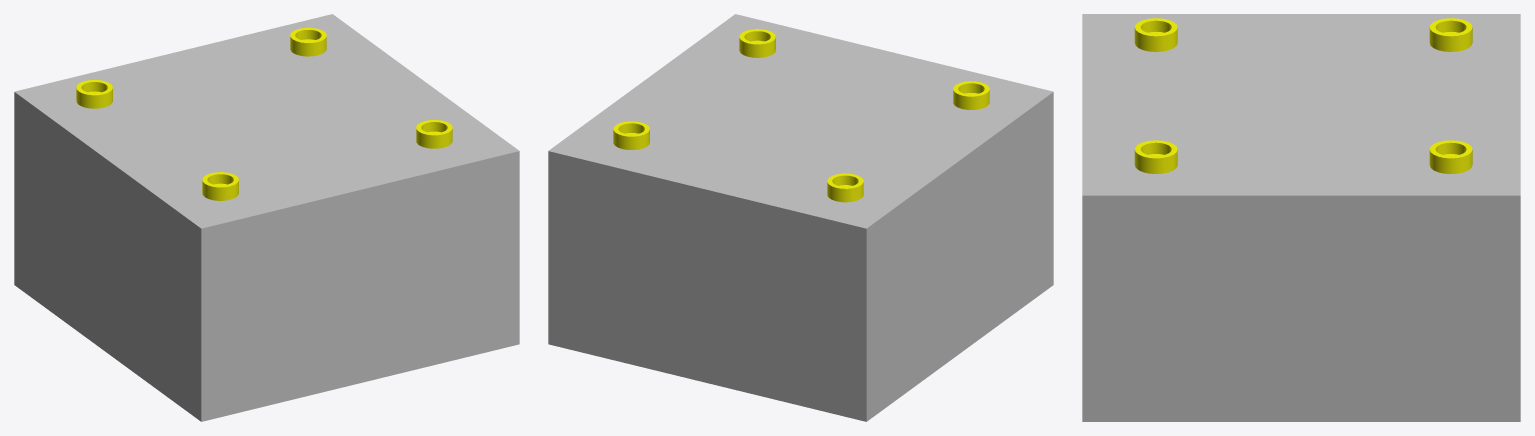
Rendered from sm_hana_bas_geothermal_heat_pump.glb.
3 views of the same model, side by side, from view 1: azimuth 30°, elevation 25°; view 2: azimuth 150°, elevation 25°; view 3: azimuth 270°, elevation 25° (orthographic). The views are drawn at different scales.
Parts seen in each view (by area): view 1: sm_color_common, sm_hana_bas_geothermal_heat_pump; view 2: sm_color_common, sm_hana_bas_geothermal_heat_pump; view 3: sm_color_common, sm_hana_bas_geothermal_heat_pump.
Part boxes in pixels (x1=…): sm_color_common: x1=14, y1=14, x2=519, y2=421; sm_hana_bas_geothermal_heat_pump: x1=76, y1=27, x2=452, y2=200; sm_color_common: x1=548, y1=14, x2=1053, y2=421; sm_hana_bas_geothermal_heat_pump: x1=613, y1=29, x2=989, y2=202; sm_color_common: x1=1082, y1=14, x2=1520, y2=421; sm_hana_bas_geothermal_heat_pump: x1=1134, y1=18, x2=1472, y2=173.
Size of the model in its own units: 0.57 by 0.3602 by 0.5805.
Materials: 2 (1 with a texture image).
